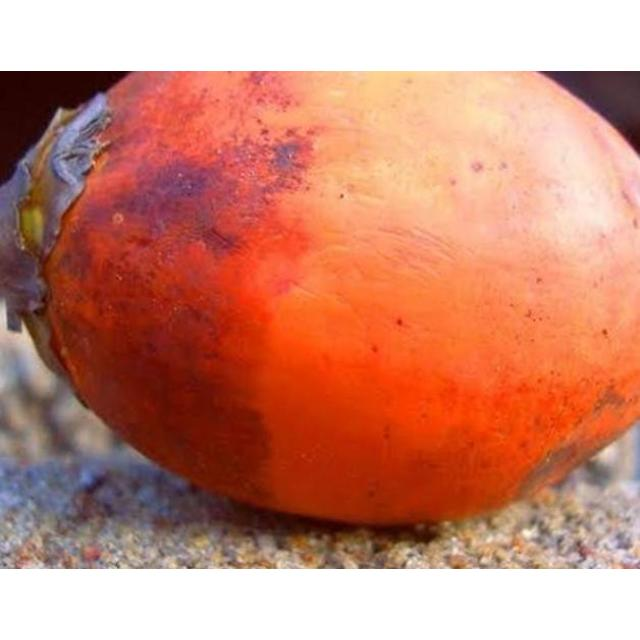good: (0, 71, 639, 531)
